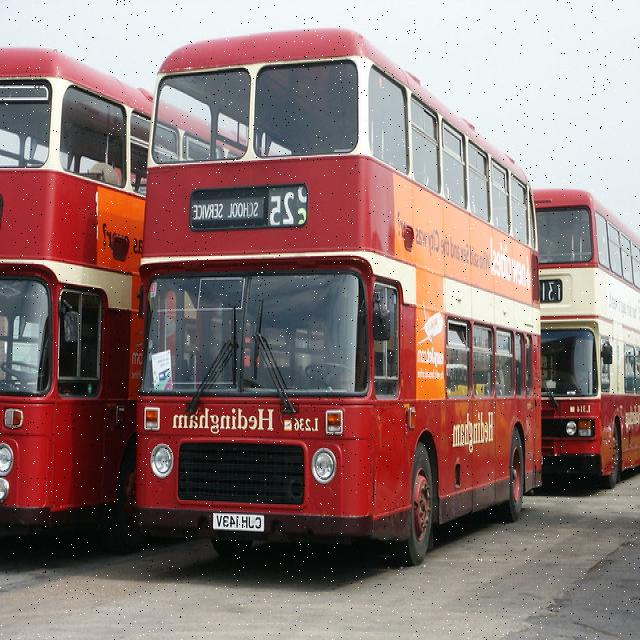Bus: (136, 28, 541, 559), (2, 42, 256, 526), (536, 188, 640, 483)
